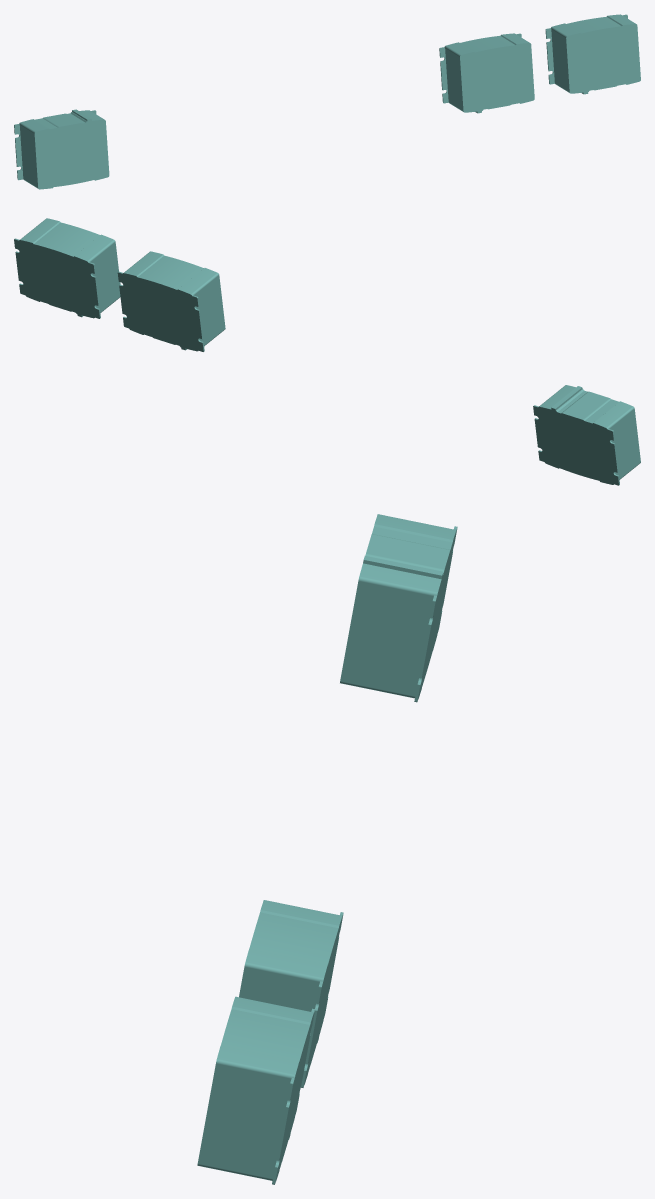
The model's file is POWER ARCHITECTURE__ELEC BOARD COMPONENTS__Orion 360W isolated DC-DC converter.glb.
3 renders of one model, top to bottom at view 1: azimuth 30°, elevation 25°; view 2: azimuth 150°, elevation 25°; view 3: azimuth 270°, elevation 25°, orthographic. The views are drawn at different scales.
Parts seen in each view (by area): view 1: Orion 360W isolated DC-DC converter; view 2: Orion 360W isolated DC-DC converter; view 3: Orion 360W isolated DC-DC converter.
Boxes of the visible parts, left/top/right/bottom form: Orion 360W isolated DC-DC converter: left=14, top=14, right=640, bottom=189; Orion 360W isolated DC-DC converter: left=14, top=218, right=640, bottom=485; Orion 360W isolated DC-DC converter: left=197, top=514, right=457, bottom=1184.
Size of the model in its own units: 1.39 by 0.1493 by 0.2731.
